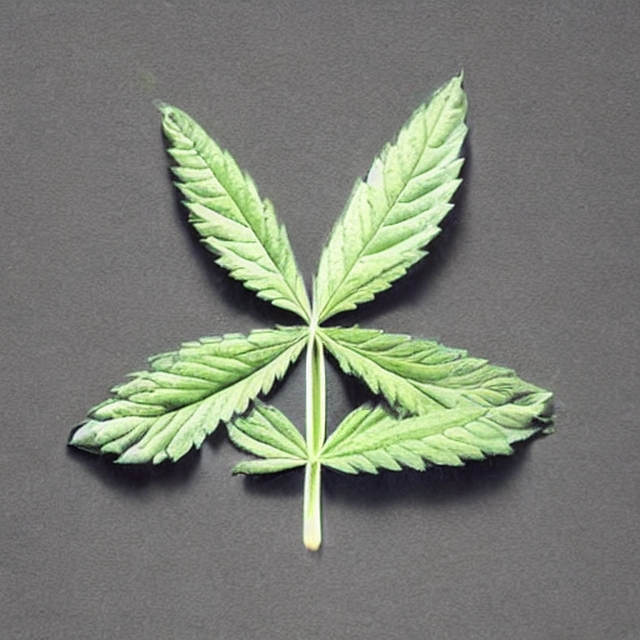Marijuana Leaf: (65, 67, 557, 551)
